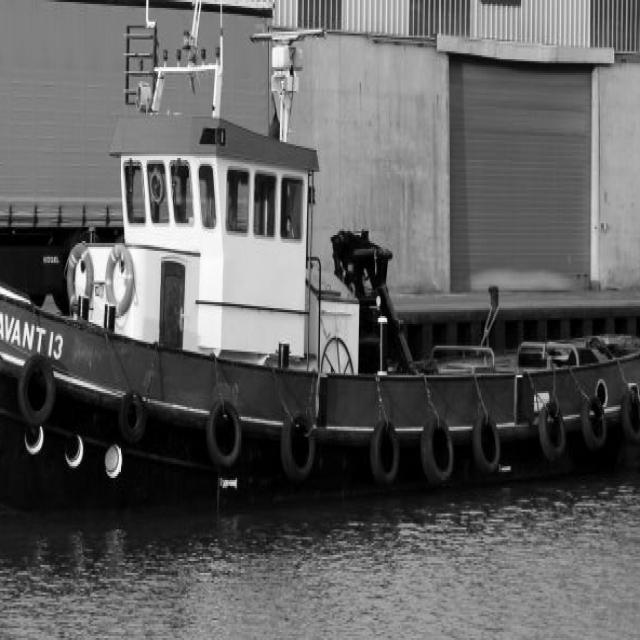tugboat: (1, 21, 640, 588)
